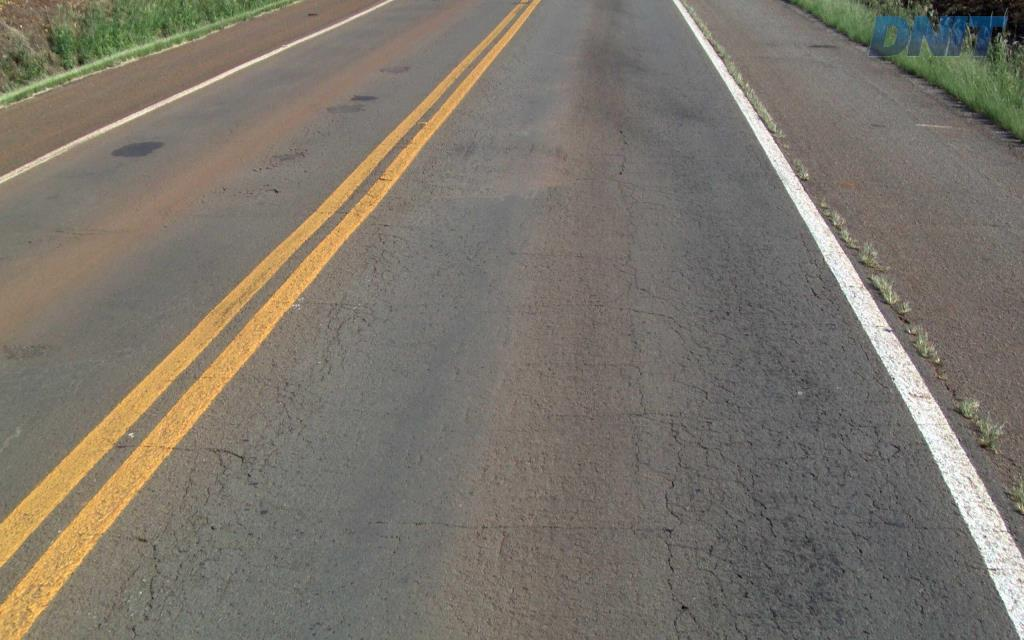crack: (732, 544, 803, 614), (799, 530, 845, 583), (804, 576, 839, 623)
